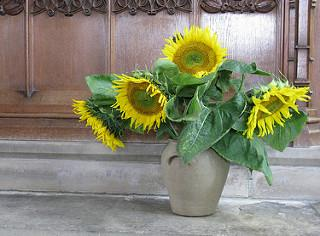sunflower: (246, 84, 310, 143), (113, 72, 171, 133), (164, 26, 227, 78), (69, 99, 123, 155)
